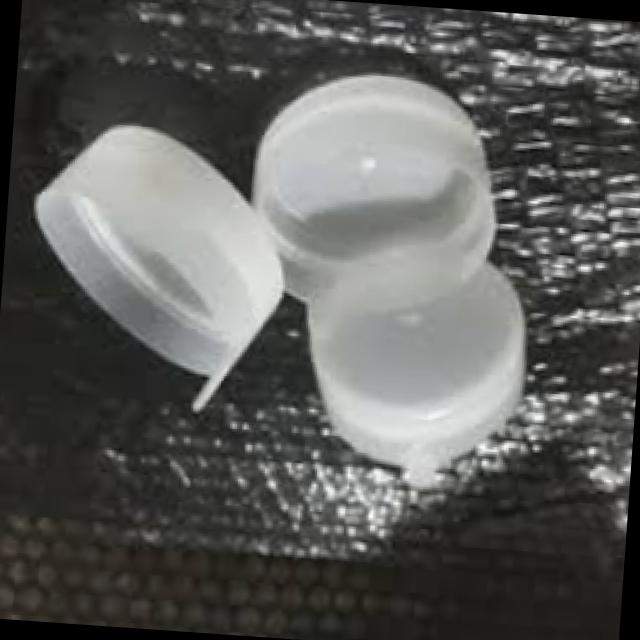TutupGalon: (8, 38, 550, 518)
